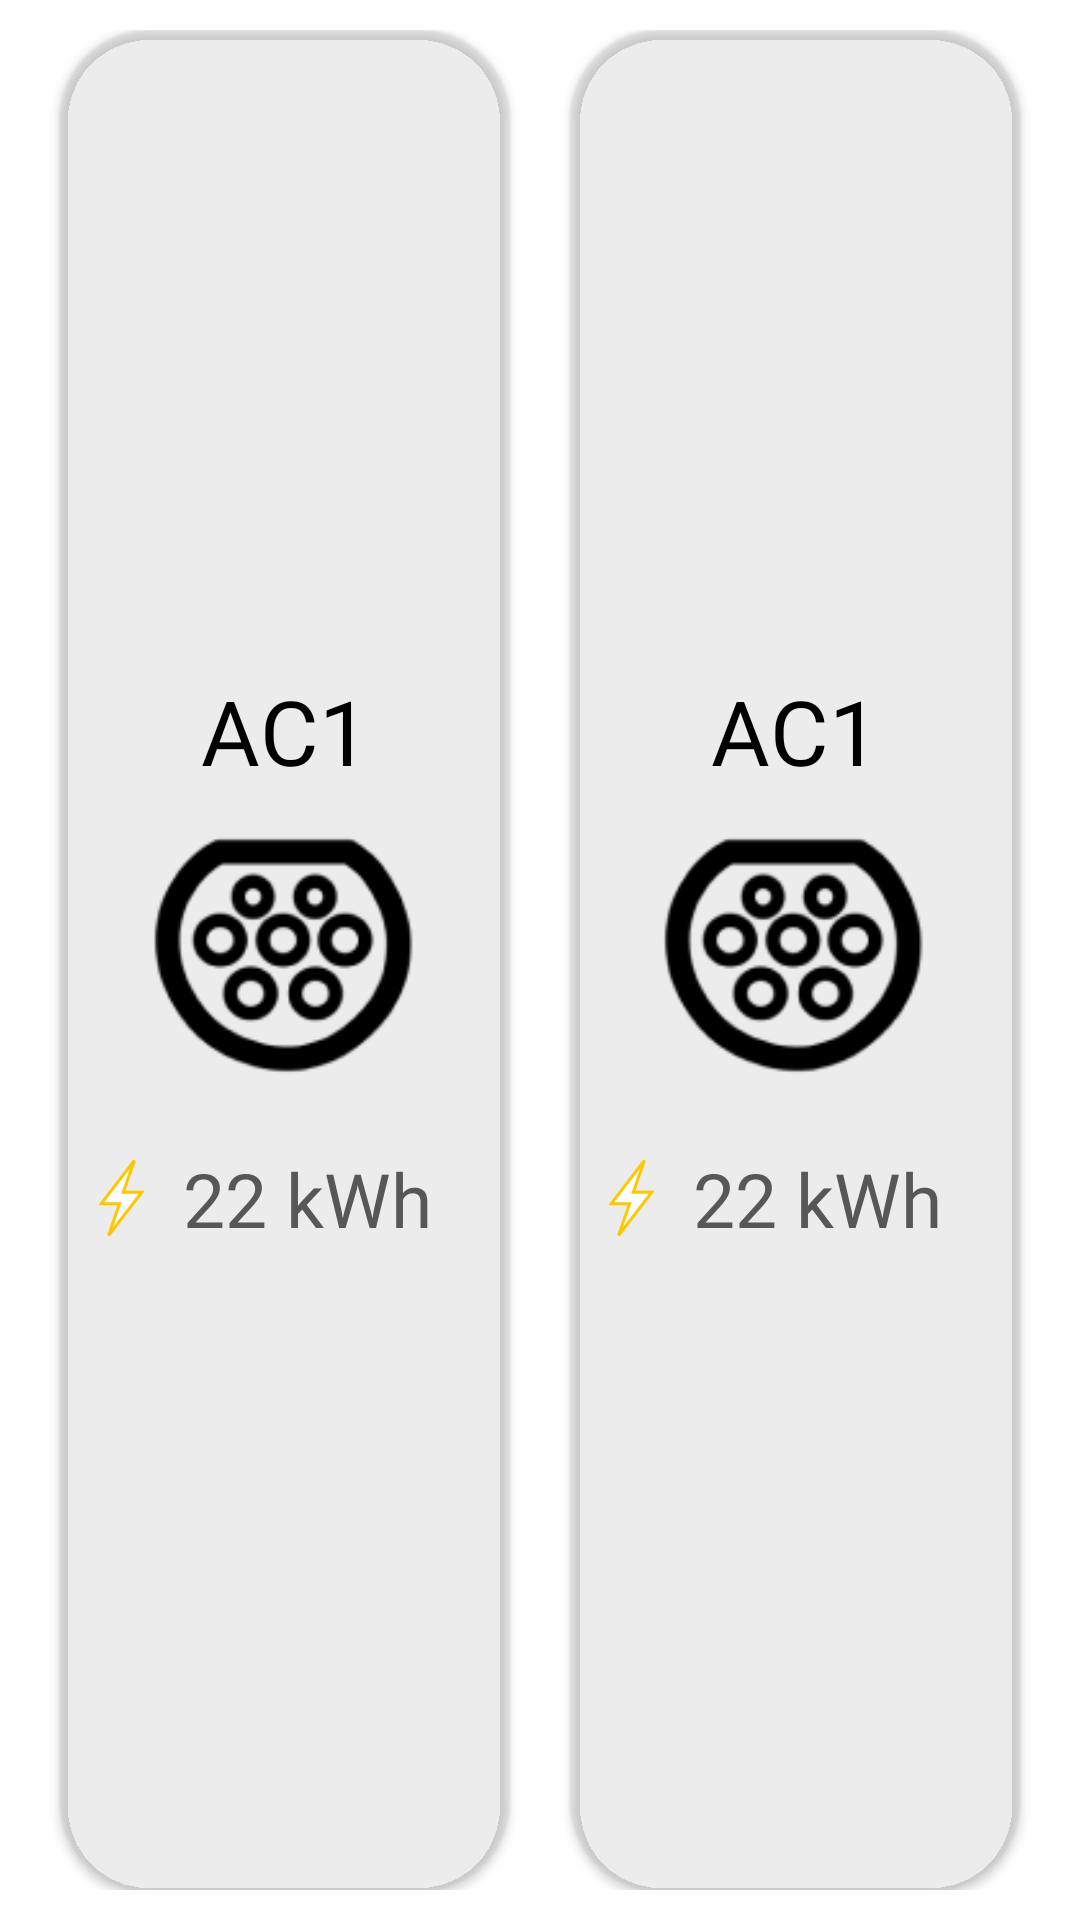

Named icons in this screenshot (1080 x 1920) and their bounding boxes, (x1, y1, x2, y2):
charger unit: (154, 838, 413, 1072), (664, 838, 923, 1072)
lightning: (99, 1159, 144, 1237), (609, 1159, 654, 1237)
